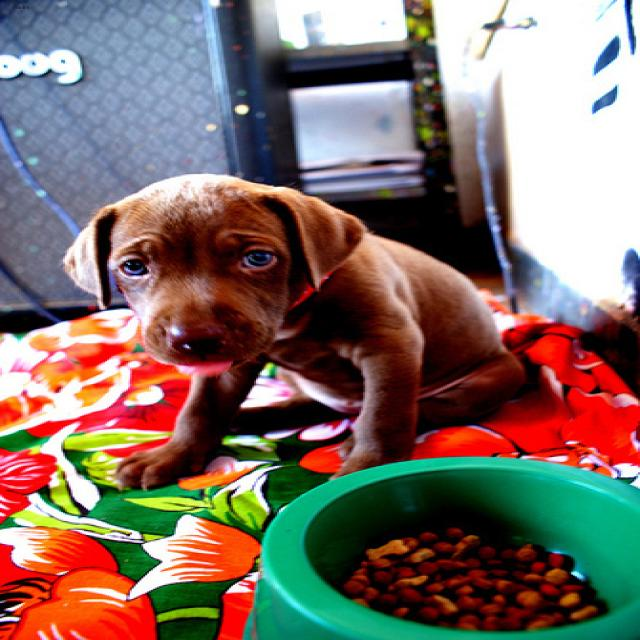dog-american_pit_bull_terrier: (50, 166, 541, 503)
